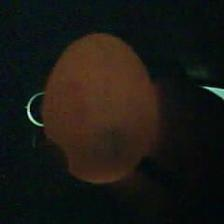fertile: (40, 32, 162, 186)
